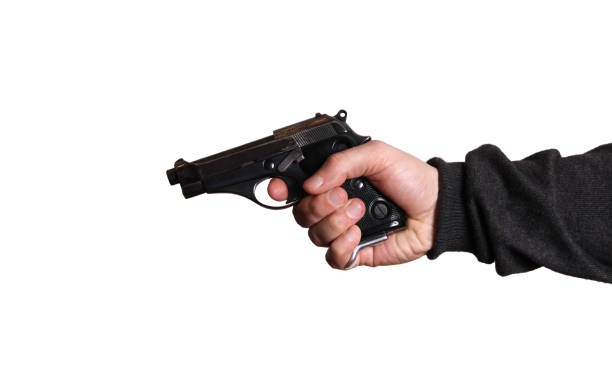pistol: (164, 108, 411, 251)
